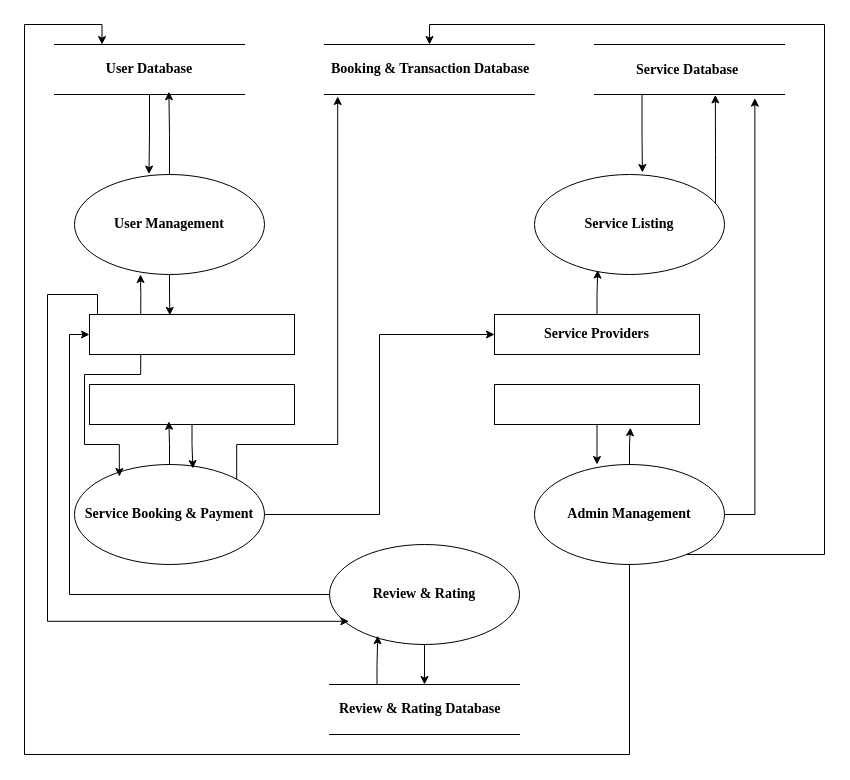
Some shapes in this 850 by 780 pixel diagram are drawn without their labels. Here are the shapes that lost their labels. From the top down, the centre of each, then its label:
At (191,334): "Clients".
At (191,404): "Payment Gateway".
At (597,404): "Django Admin".
